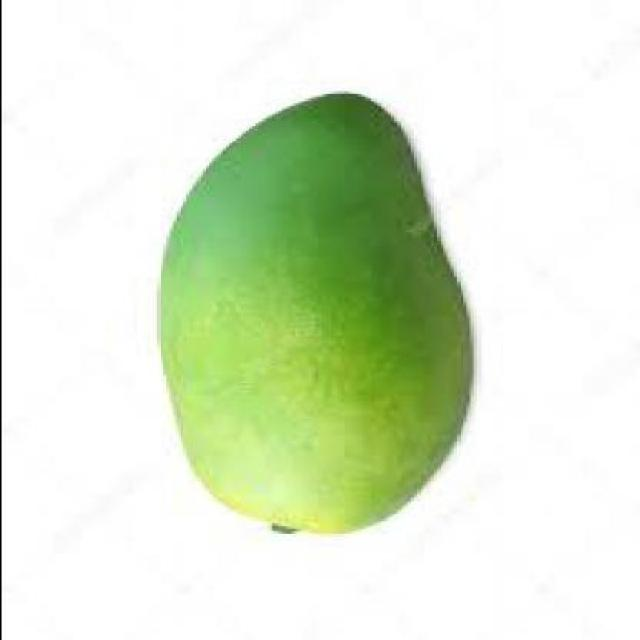BIODEGRADABLE: (160, 92, 475, 535)
